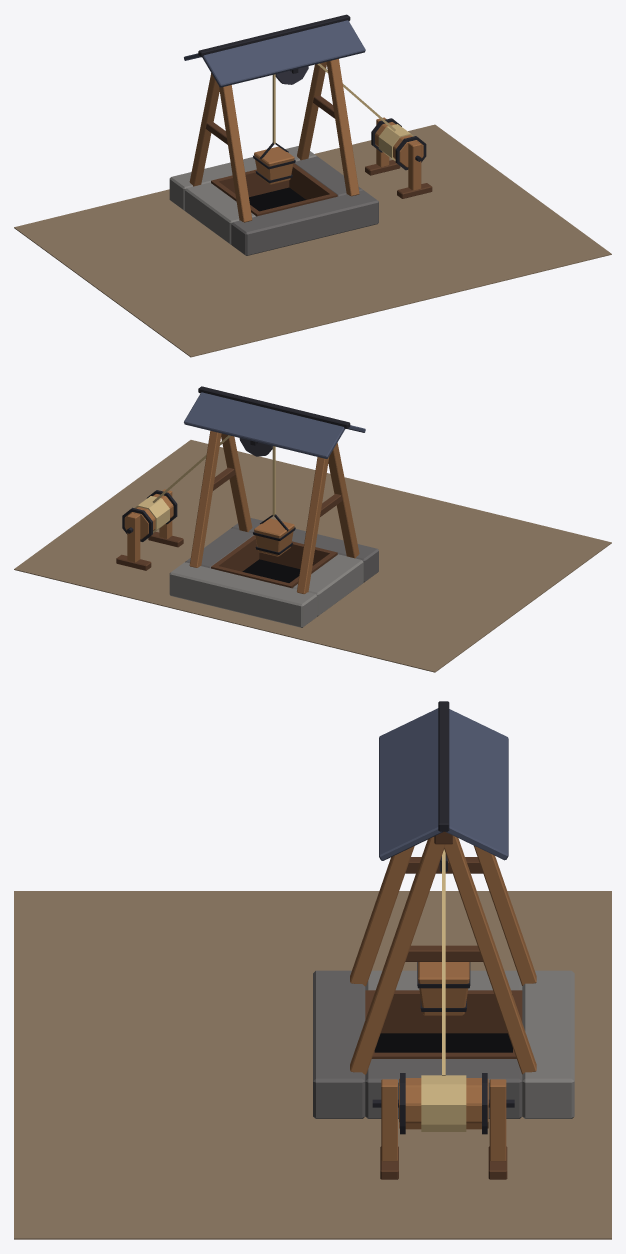
Rendered from Mine_MineShaft.fbx.
3 views of the same model, one above another, from view 1: azimuth 30°, elevation 25°; view 2: azimuth 150°, elevation 25°; view 3: azimuth 270°, elevation 25° (orthographic). The views are drawn at different scales.
Parts seen in each view (by area): view 1: dirt, timber, stone_dk, tile, stone, spool, iron_dk, rope, void; view 2: dirt, timber, stone, tile, spool, stone_dk, iron_dk, rope, void; view 3: dirt, timber, tile, stone_dk, stone, spool, rope, iron_dk, void.
Part boxes in pixels (<box>): dirt: <box>14,124,611,357</box>; timber: <box>189,59,423,222</box>; stone_dk: <box>231,156,378,255</box>; tile: <box>184,20,365,87</box>; stone: <box>169,146,316,244</box>; spool: <box>205,95,432,216</box>; iron_dk: <box>198,14,426,183</box>; rope: <box>272,63,413,160</box>; void: <box>249,187,305,211</box>; dirt: <box>14,440,611,672</box>; timber: <box>124,431,359,593</box>; stone: <box>169,554,363,627</box>; tile: <box>184,392,365,458</box>; spool: <box>116,467,342,588</box>; stone_dk: <box>185,518,378,582</box>; iron_dk: <box>122,386,350,554</box>; rope: <box>134,435,275,532</box>; void: <box>242,559,300,582</box>; dirt: <box>14,891,611,1239</box>; timber: <box>350,835,536,1161</box>; tile: <box>379,708,508,860</box>; stone_dk: <box>313,970,522,1118</box>; stone: <box>365,970,574,1118</box>; spool: <box>365,831,522,1179</box>; rope: <box>421,849,466,1131</box>; iron_dk: <box>372,701,514,1134</box>; void: <box>374,1033,512,1052</box>.
Size of the model in its own units: 22 by 8.97 by 16.
